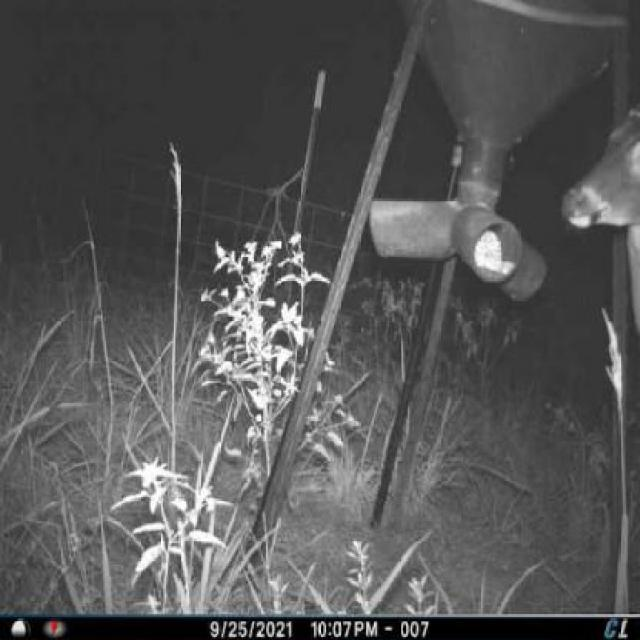Deer: (554, 86, 638, 349)
